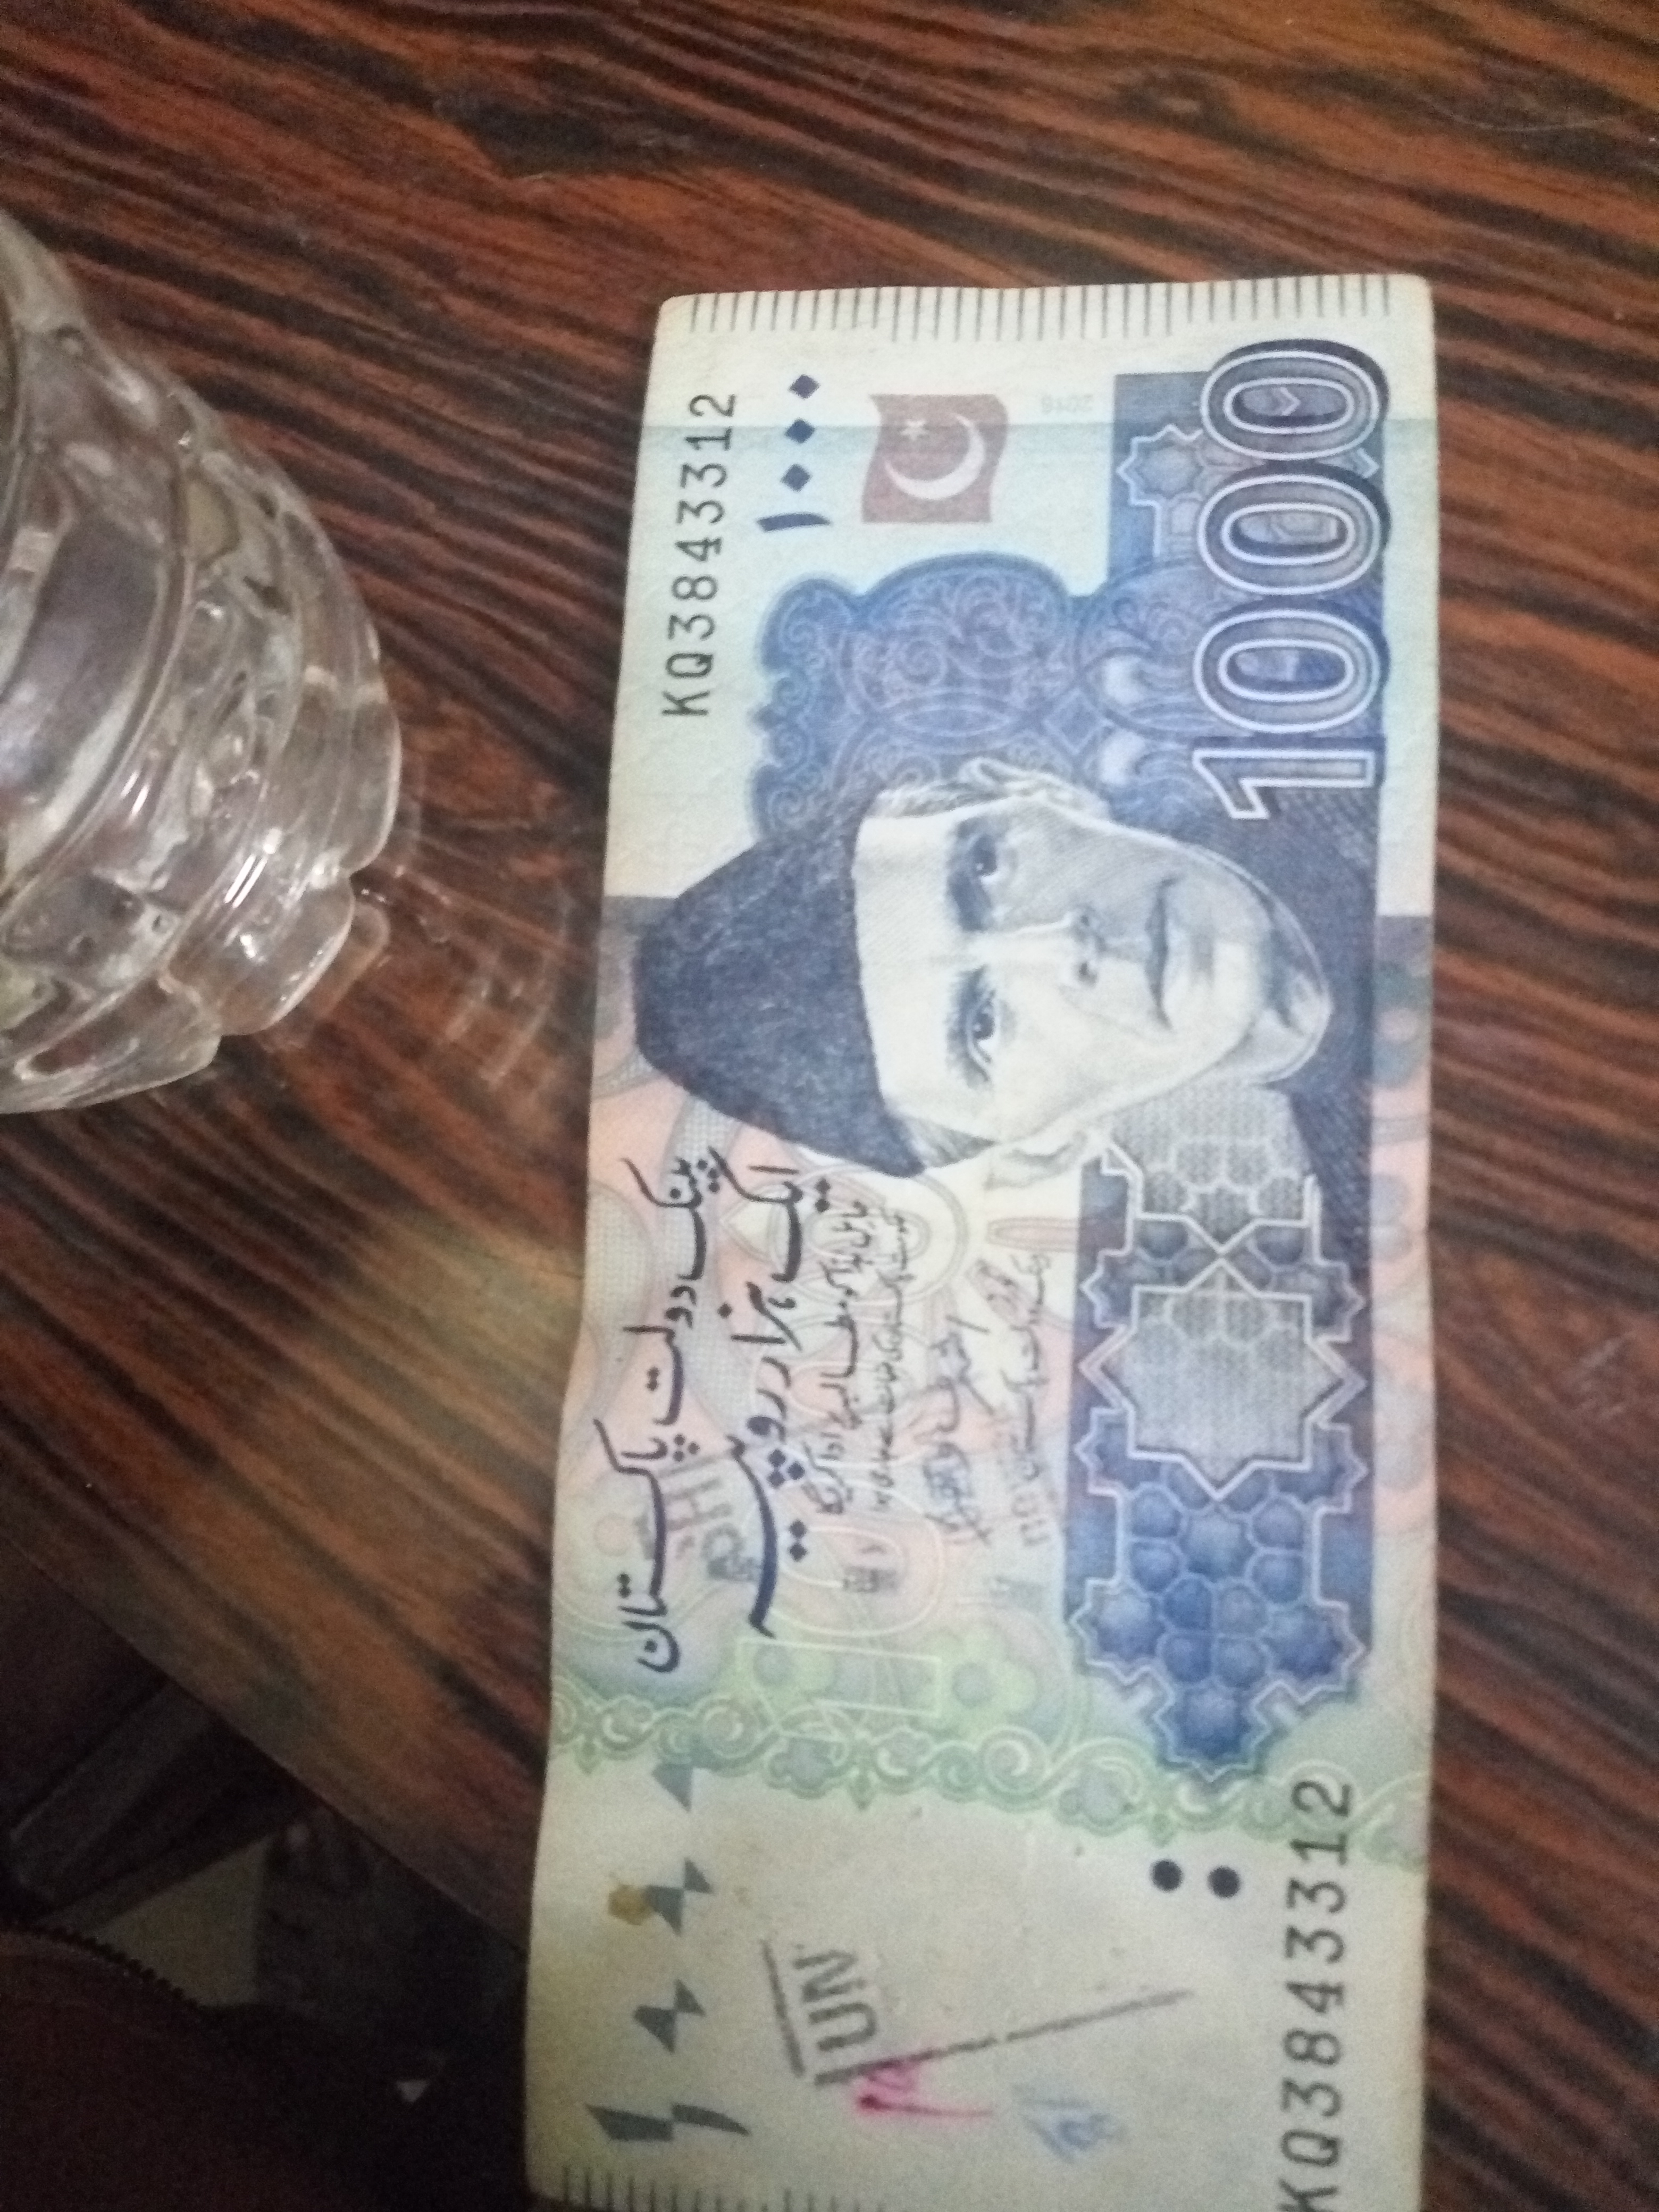1000 rupee: (500, 183, 1436, 2212)
